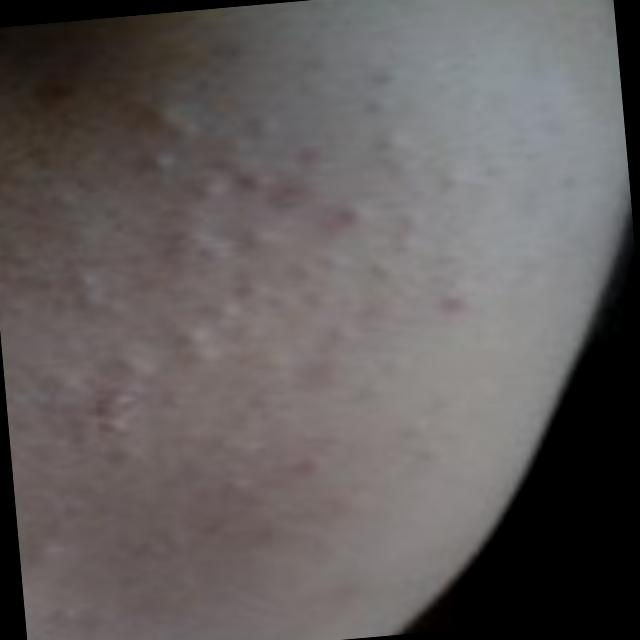fungal: (0, 21, 473, 599)
